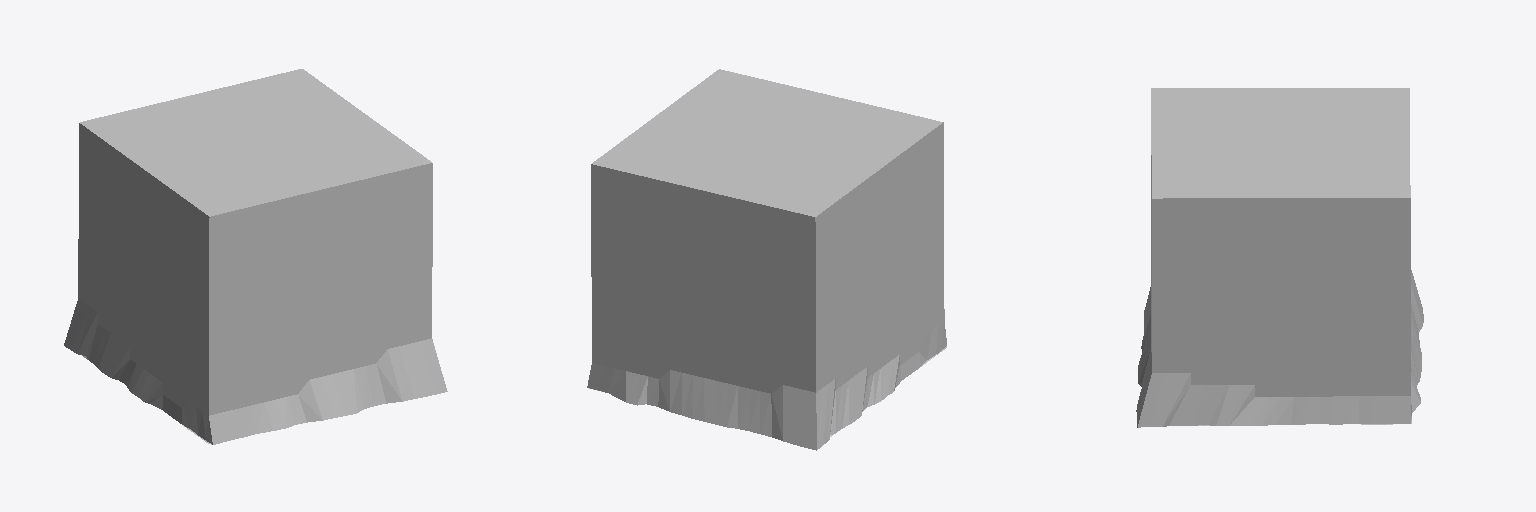
File: mod0217.obj
The picture shows the model from 3 angles: view 1: azimuth 30°, elevation 25°; view 2: azimuth 150°, elevation 25°; view 3: azimuth 270°, elevation 25°; orthographic projection.
Parts seen in each view (by area): view 1: Box001; view 2: Box001; view 3: Box001.
Part boxes in pixels (left/top/right/bottom): Box001: left=64, top=69, right=447, bottom=444; Box001: left=587, top=69, right=946, bottom=450; Box001: left=1136, top=88, right=1423, bottom=427.
Bounding box in the file's own units: 0.5799 × 0.5221 × 0.5979.